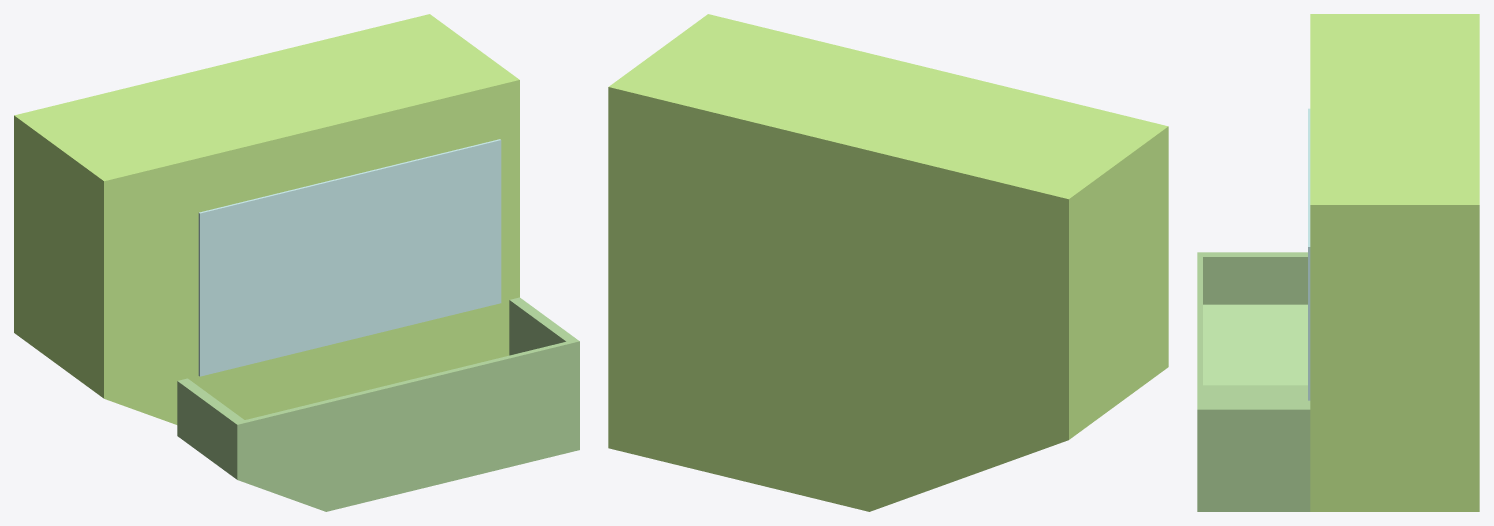
3 renders of one model, left to right at view 1: azimuth 30°, elevation 25°; view 2: azimuth 150°, elevation 25°; view 3: azimuth 270°, elevation 25°, orthographic. The views are drawn at different scales.
Visible parts, largest first — view 1: Mesh_0.003; view 2: Mesh_0.003; view 3: Mesh_0.003.
Boxes of the visible parts, x1,y1,x2,y2 form: Mesh_0.003: [14, 14, 579, 511]; Mesh_0.003: [608, 14, 1168, 511]; Mesh_0.003: [1197, 14, 1479, 511].
Bounding box in the file's own units: 4 × 3 × 2.5.
